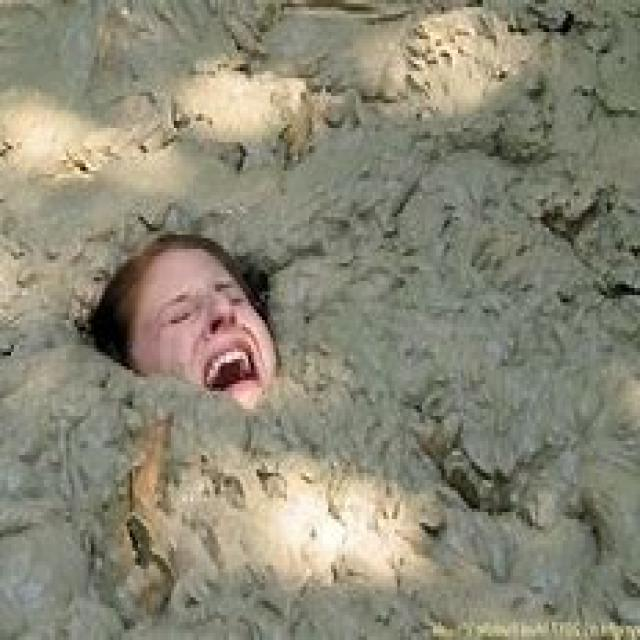drowning: (53, 167, 330, 491)
